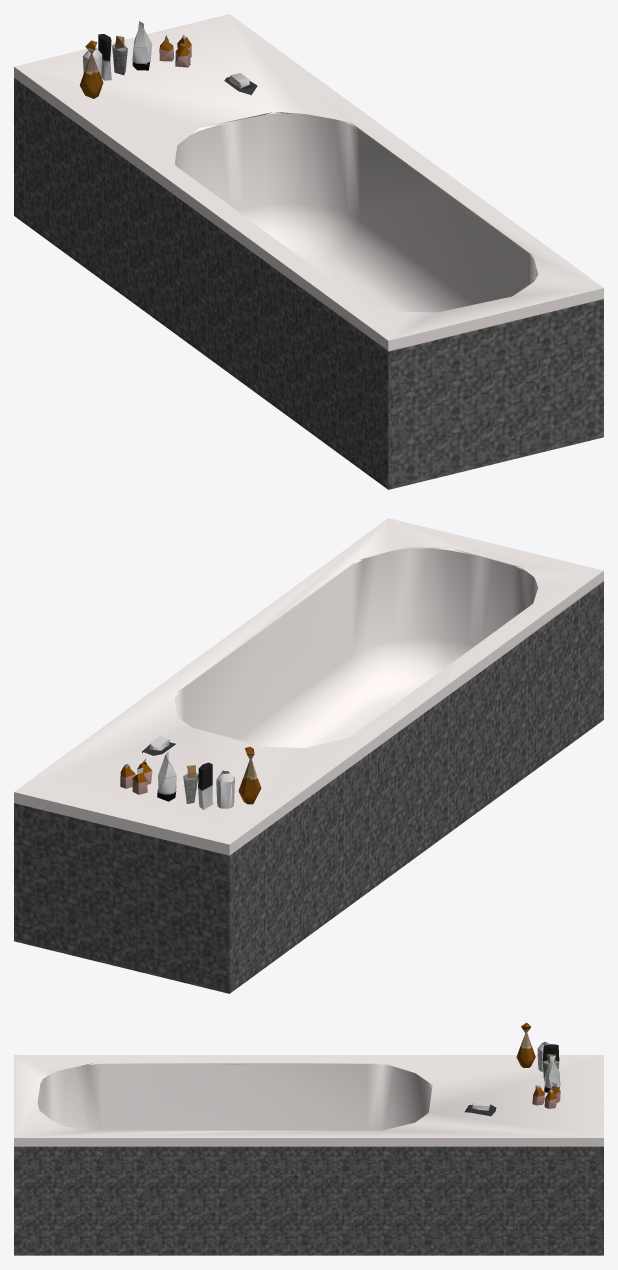
Rendered from Bathtub0001.obj.
The picture shows the model from 3 angles, top to bottom: view 1: azimuth 30°, elevation 25°; view 2: azimuth 150°, elevation 25°; view 3: azimuth 270°, elevation 25°; orthographic projection. The views are drawn at different scales.
Bounding box in the file's own units: 0.8 × 0.725 × 2.41.
Materials: 1 (1 with a texture image).
